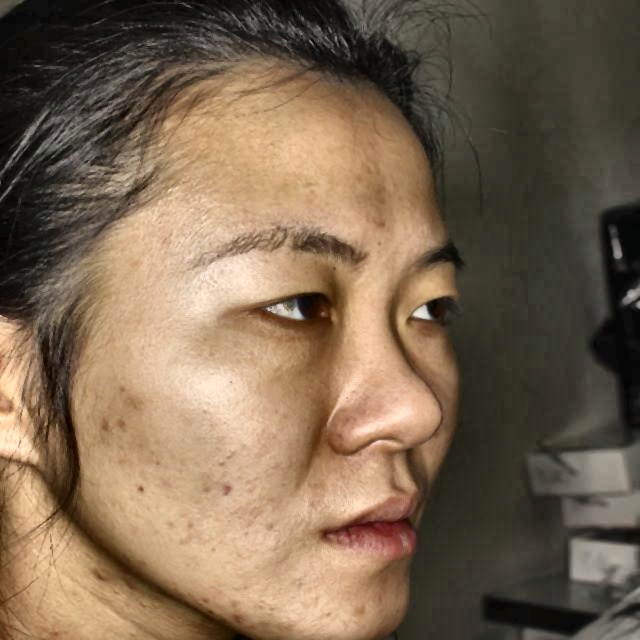comedone: (226, 602, 264, 634), (118, 384, 152, 417)
